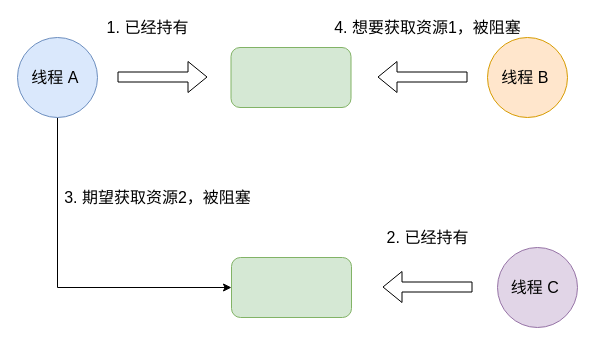
This 595x345 diagram has some shape labels left out. Each missing label, with the centre of its shape:
"资源 1" belongs at pixel 290 77.
"资源 2" belongs at pixel 291 287.
